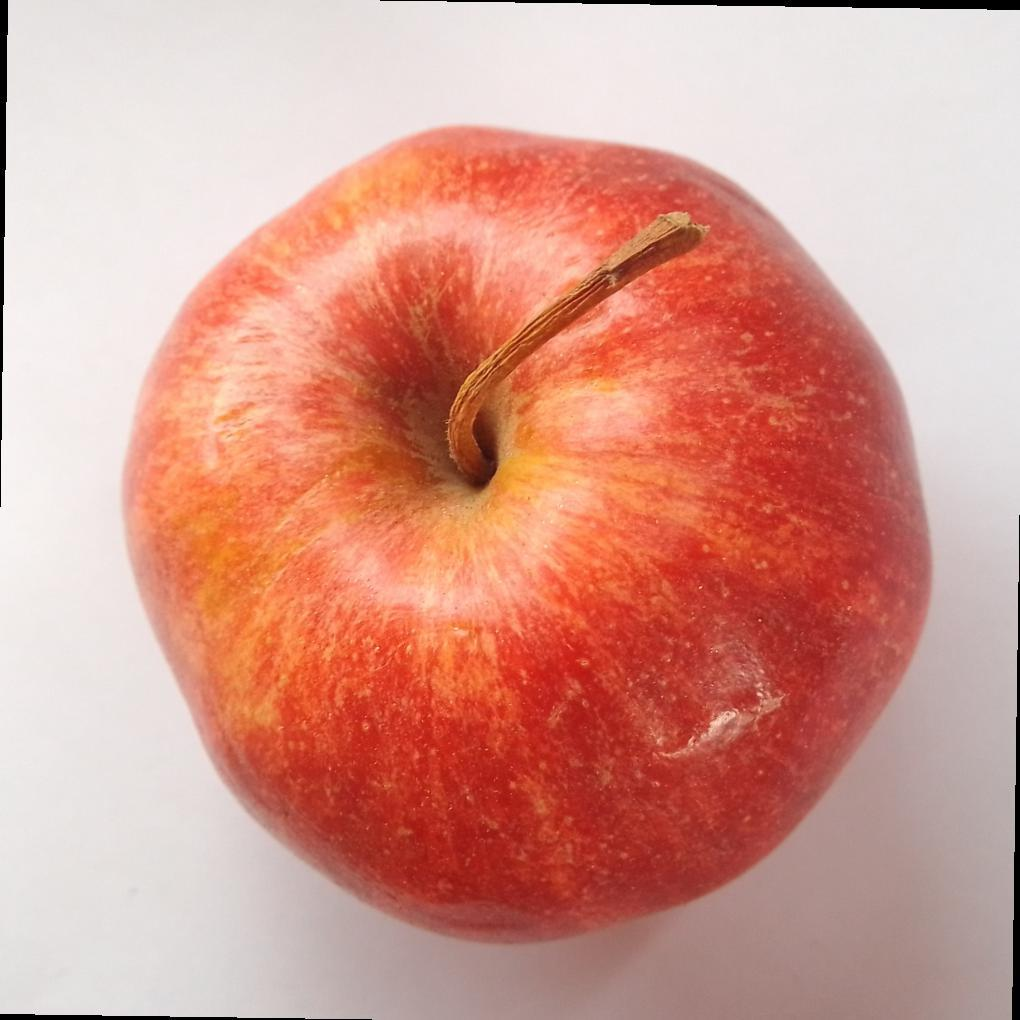FreshGuava: (121, 125, 934, 948)
